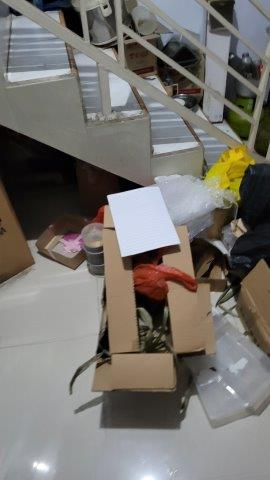kertas: (105, 183, 182, 259)
